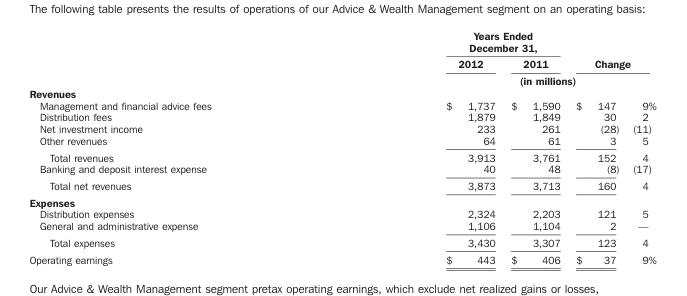table: (28, 28, 655, 265)
table column: (28, 28, 327, 265), (327, 28, 502, 265), (502, 28, 567, 265), (567, 28, 625, 265), (625, 28, 655, 265)
table column header: (28, 28, 655, 86)
table projected row header: (28, 193, 655, 207), (28, 86, 655, 99)
table row: (28, 28, 655, 55), (28, 55, 655, 72), (28, 176, 655, 193), (28, 233, 655, 250), (28, 250, 655, 265), (28, 72, 655, 86), (28, 134, 655, 148), (28, 148, 655, 162), (28, 162, 655, 176), (28, 193, 655, 207), (28, 219, 655, 233), (28, 86, 655, 99), (28, 110, 655, 122), (28, 122, 655, 134), (28, 207, 655, 219), (28, 99, 655, 110)
table spanning cell: (327, 28, 567, 55), (327, 72, 625, 86), (567, 28, 655, 72)
